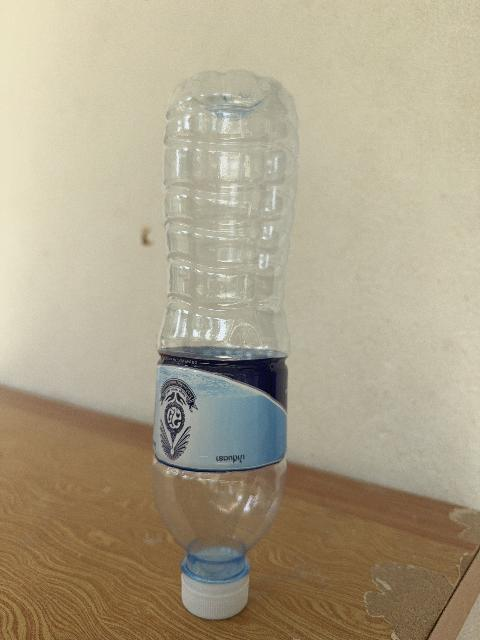bottle: (153, 71, 297, 618)
